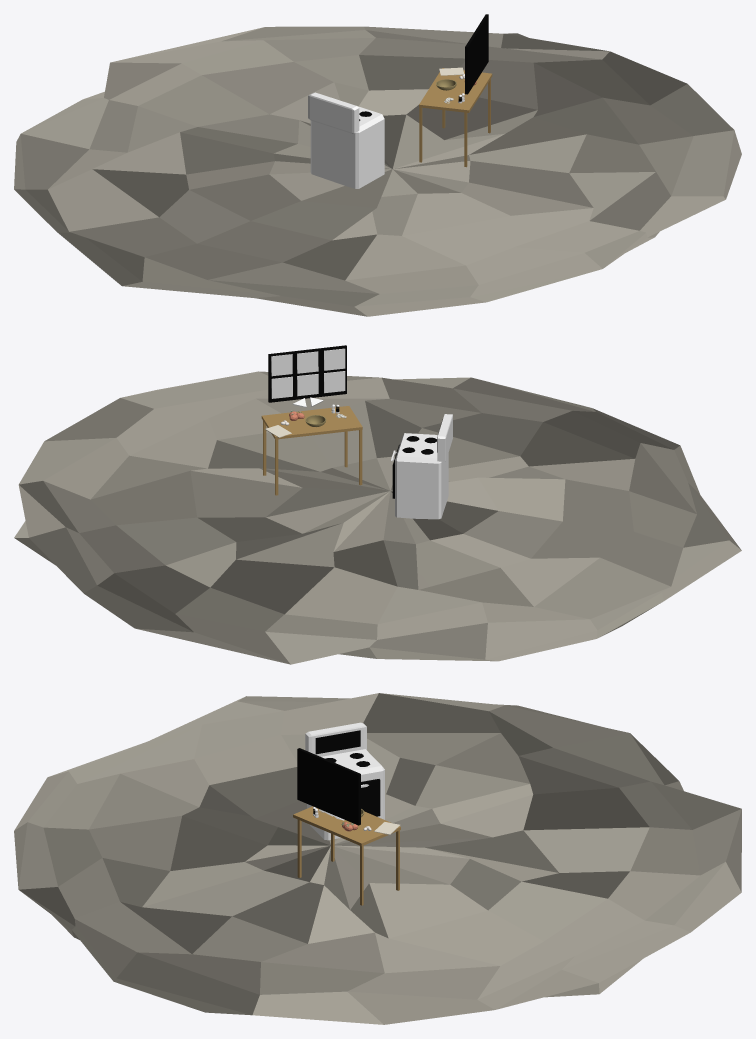
File: cooking-sim.dae
The picture shows the model from 3 angles, top to bottom: view 1: azimuth 30°, elevation 25°; view 2: azimuth 150°, elevation 25°; view 3: azimuth 270°, elevation 25°; orthographic projection. The views are drawn at different scales.
Visible parts, largest first — view 1: Floor, Stove, Table, UI; view 2: Floor, Stove, UI, Table; view 3: Floor, UI, Stove, Table, Stove_Door.
Part boxes in pixels (x1=…): Floor: x1=14, y1=26, x2=741, y2=316; Stove: x1=308, y1=92, x2=384, y2=188; Table: x1=419, y1=68, x2=492, y2=167; UI: x1=465, y1=14, x2=488, y2=94; Floor: x1=14, y1=371, x2=741, y2=664; Stove: x1=395, y1=414, x2=452, y2=519; UI: x1=268, y1=345, x2=346, y2=402; Table: x1=261, y1=406, x2=362, y2=495; Floor: x1=14, y1=693, x2=741, y2=1024; UI: x1=297, y1=748, x2=360, y2=825; Stove: x1=305, y1=722, x2=384, y2=840; Table: x1=293, y1=806, x2=400, y2=905; Stove_Door: x1=361, y1=779, x2=380, y2=816.
Size of the model in its own units: 10.38 by 9.65 by 2.22.
